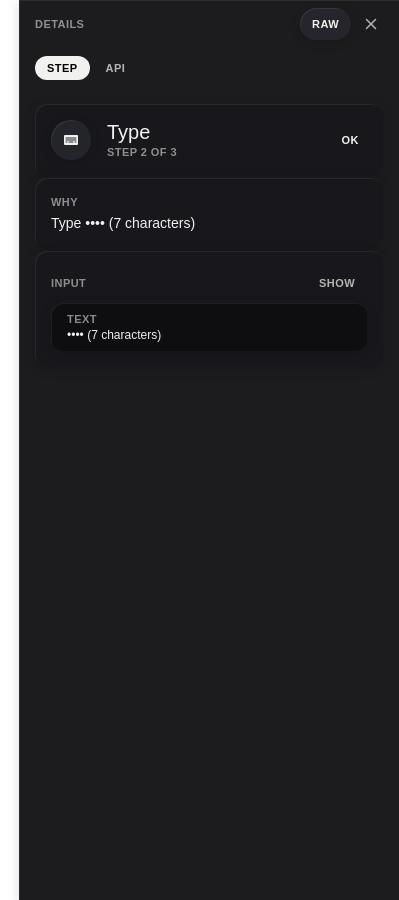
FlightDrawer › shows the stored JSON behind RAW, with the typed text still hidden
Click the button with test id "raw-toggle" at (326, 24), box [300, 8, 351, 40]
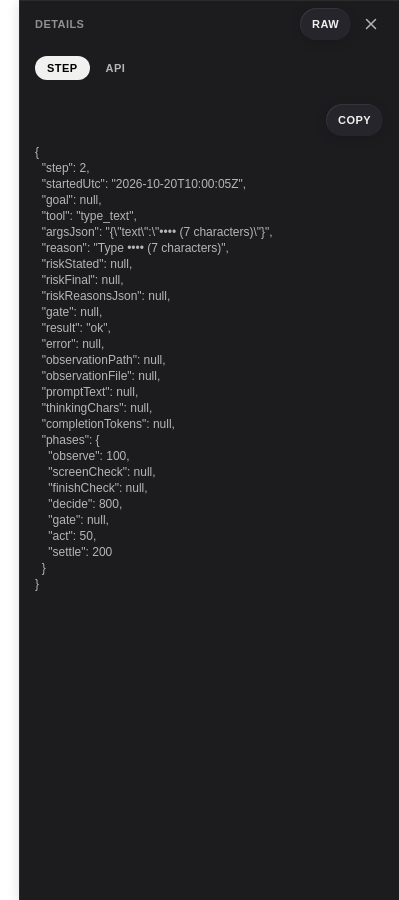
Expected: the text with test id "raw" shows "\"tool\": \"type_text\"", [35, 145, 273, 591]
Expected: the button with test id "copy" is shown, [326, 104, 383, 136]
